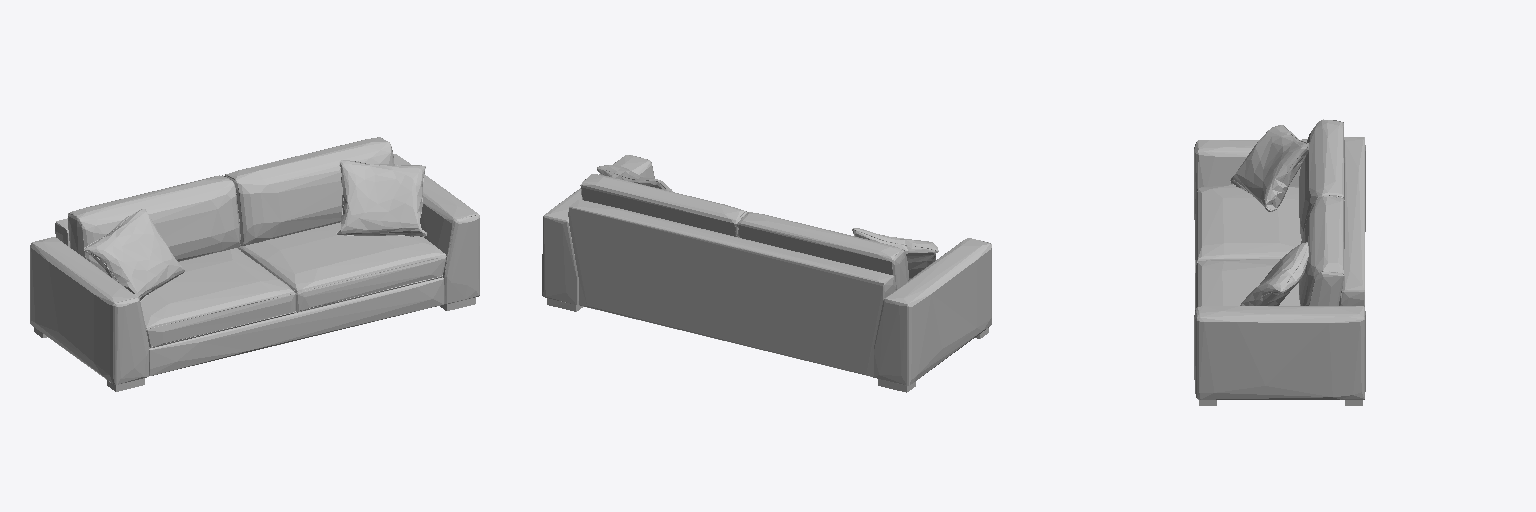
Rendered from furniture.s.obj.
The picture shows the model from 3 angles: view 1: azimuth 30°, elevation 25°; view 2: azimuth 150°, elevation 25°; view 3: azimuth 270°, elevation 25°; orthographic projection.
Visible parts, largest first — view 1: furniture; view 2: furniture; view 3: furniture.
Part boxes in pixels (bbox=[...]): furniture: bbox=[30, 137, 479, 391]; furniture: bbox=[542, 155, 991, 392]; furniture: bbox=[1194, 119, 1365, 405].
Bounding box in the file's own units: 12.72 × 4.09 × 5.08.